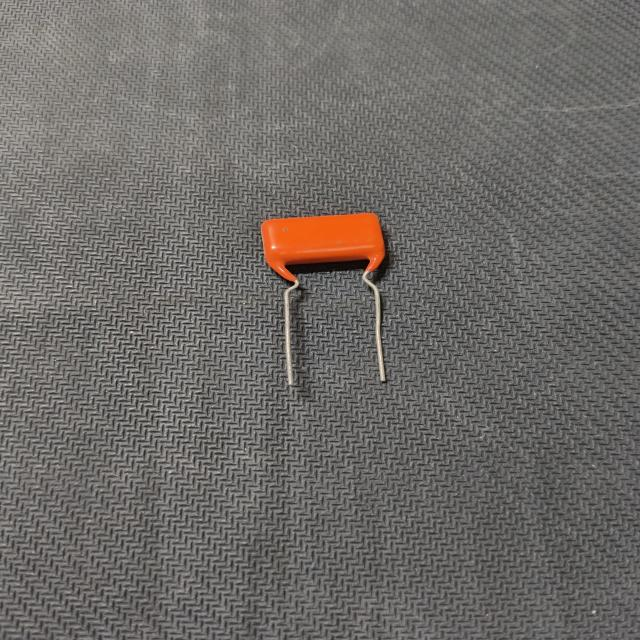capacitor: (250, 208, 402, 410)
